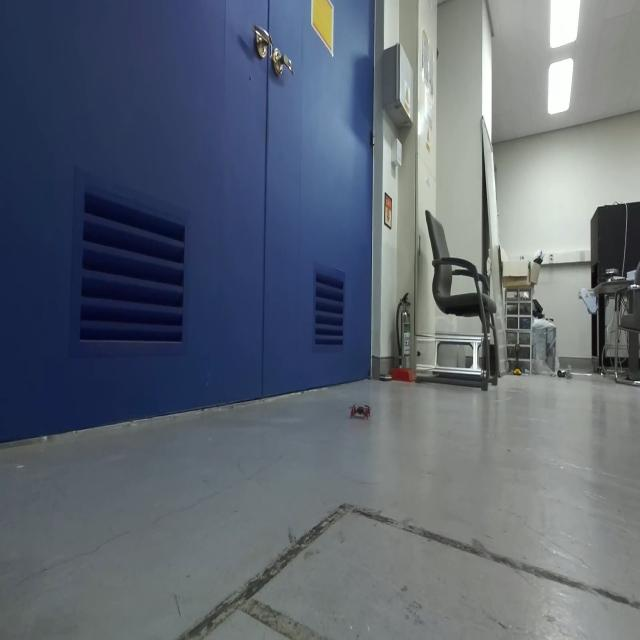crazyflie: (347, 398, 373, 424)
